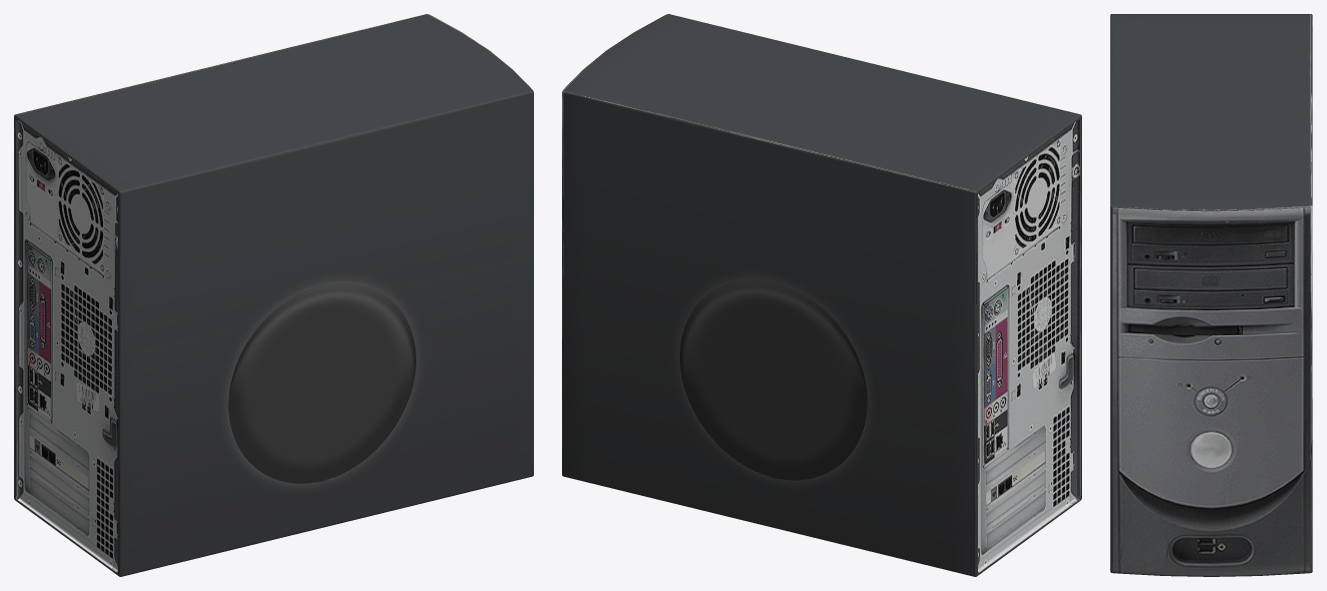
The model's file is komp.fbx.
3 renders of one model, left to right at view 1: azimuth 30°, elevation 25°; view 2: azimuth 150°, elevation 25°; view 3: azimuth 270°, elevation 25°, orthographic. The views are drawn at different scales.
Visible parts, largest first — view 1: 10104_Computer_CPU_Case_v1_L3; view 2: 10104_Computer_CPU_Case_v1_L3; view 3: 10104_Computer_CPU_Case_v1_L3.
Boxes of the visible parts, <box> form: 10104_Computer_CPU_Case_v1_L3: <box>14,14,533,576</box>; 10104_Computer_CPU_Case_v1_L3: <box>562,14,1081,576</box>; 10104_Computer_CPU_Case_v1_L3: <box>1110,14,1312,576</box>.
Size of the model in its own units: 38.74 by 33.72 by 16.86.
